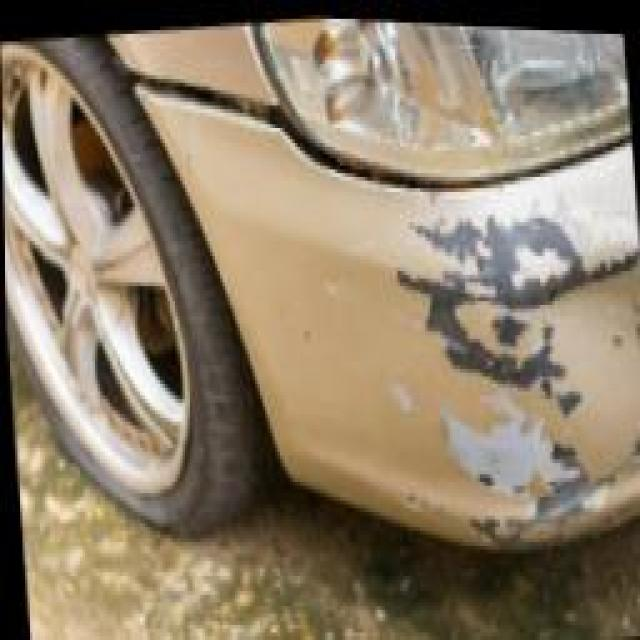Bumper: (155, 34, 640, 640)
